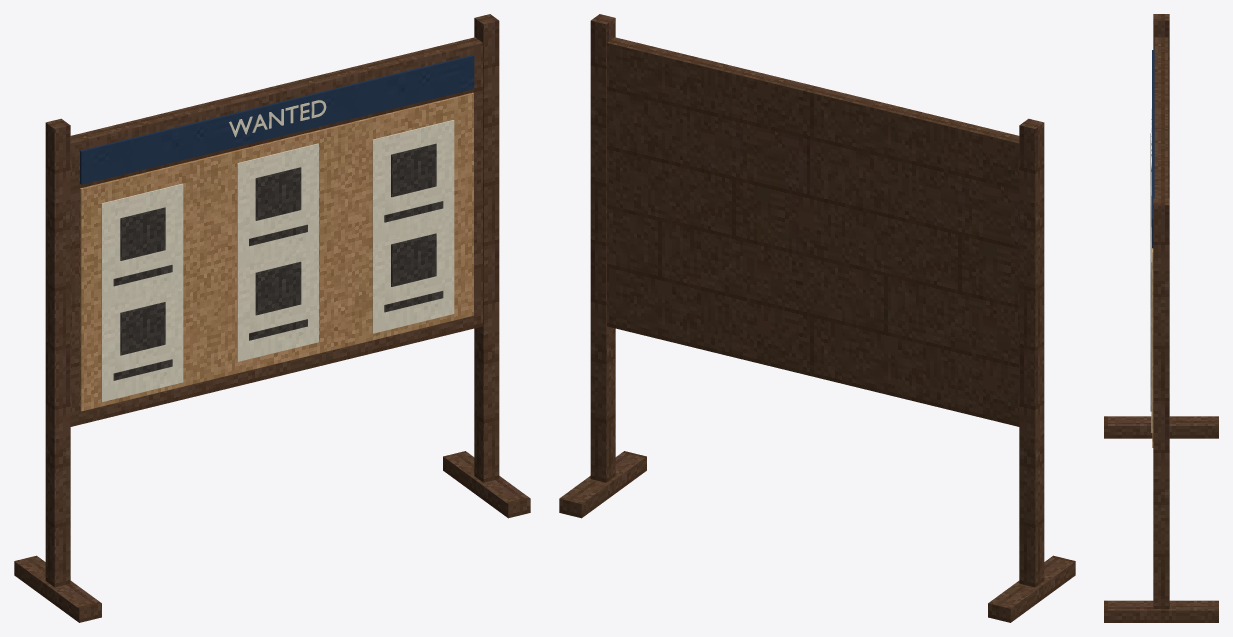
3 renders of one model, left to right at view 1: azimuth 30°, elevation 25°; view 2: azimuth 150°, elevation 25°; view 3: azimuth 270°, elevation 25°, orthographic. The views are drawn at different scales.
Parts seen in each view (by area): view 1: Decor_wanted_board; view 2: Decor_wanted_board; view 3: Decor_wanted_board.
Boxes of the visible parts, <box> form: Decor_wanted_board: <box>14,14,530,622</box>; Decor_wanted_board: <box>559,14,1075,622</box>; Decor_wanted_board: <box>1104,14,1218,622</box>.
Size of the model in its own units: 2 by 2 by 0.5.
Materials: 5 (5 with a texture image).
